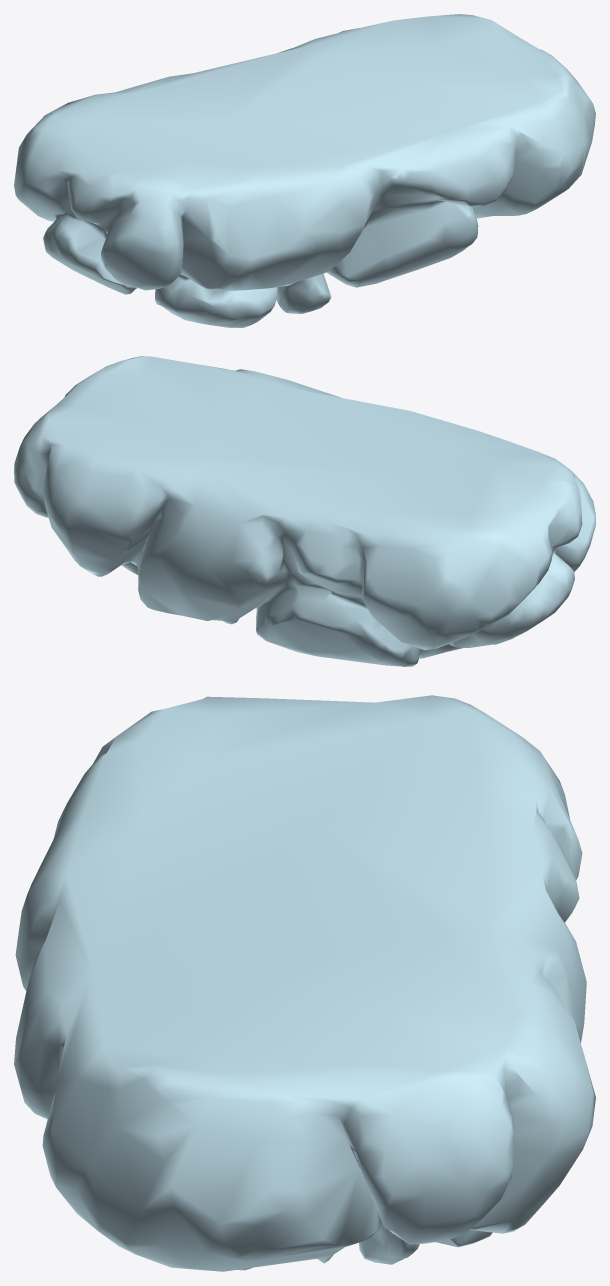
Rendered from island_2_LOD3.fbx.
3 views of the same model, one above another, from view 1: azimuth 30°, elevation 25°; view 2: azimuth 150°, elevation 25°; view 3: azimuth 270°, elevation 25° (orthographic). The views are drawn at different scales.
Parts seen in each view (by area): view 1: island_2_LOD3; view 2: island_2_LOD3; view 3: island_2_LOD3.
Part boxes in pixels (x1,y1,x2,y2): island_2_LOD3: (14, 14, 595, 327); island_2_LOD3: (14, 356, 595, 666); island_2_LOD3: (14, 695, 595, 1271).
Bounding box in the file's own units: 2610 × 952 × 1455.
